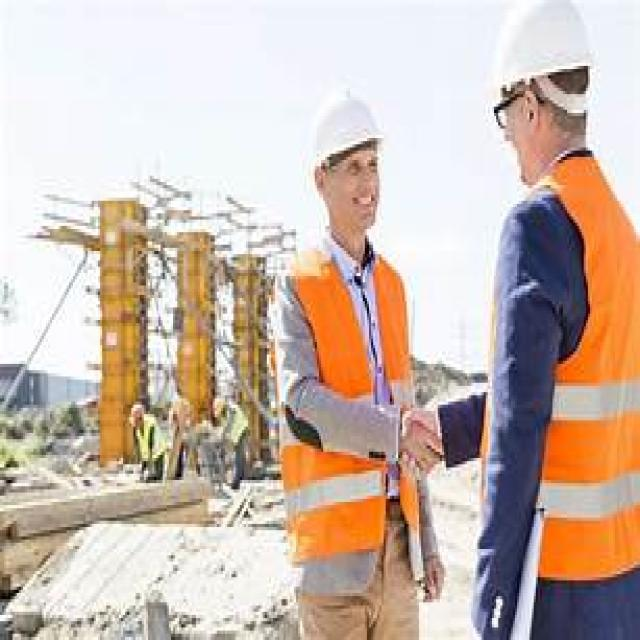not-gloved: (394, 396, 447, 482)
